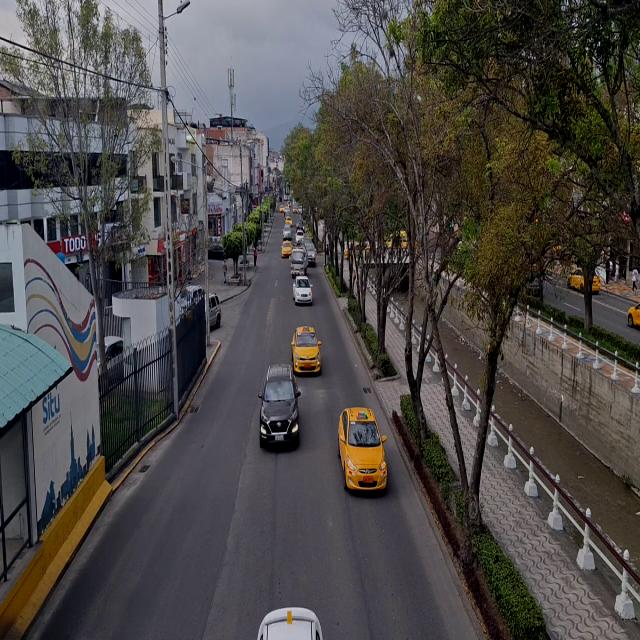SED: (338, 409, 384, 490), (293, 329, 321, 374)
SUV: (262, 368, 296, 447)
